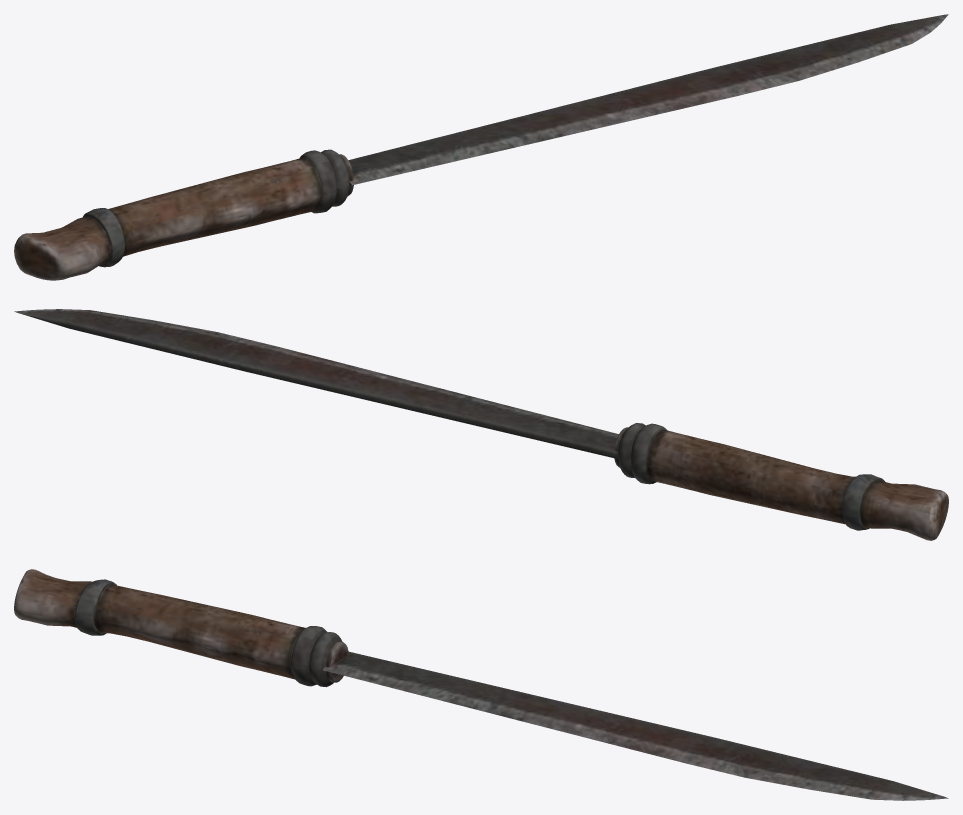
Rendered from machete.glb.
The picture shows the model from 3 angles, top to bottom: view 1: azimuth 30°, elevation 25°; view 2: azimuth 150°, elevation 25°; view 3: azimuth 330°, elevation 25°; orthographic projection. The views are drawn at different scales.
Parts seen in each view (by area): view 1: machete; view 2: machete; view 3: machete.
Boxes of the visible parts, x1,y1,x2,y2 form: machete: [14, 14, 948, 280]; machete: [14, 309, 948, 540]; machete: [14, 569, 948, 800].
Size of the model in its own units: 0.65 by 0.0382 by 0.0526.
Materials: 1 (1 with a texture image).
